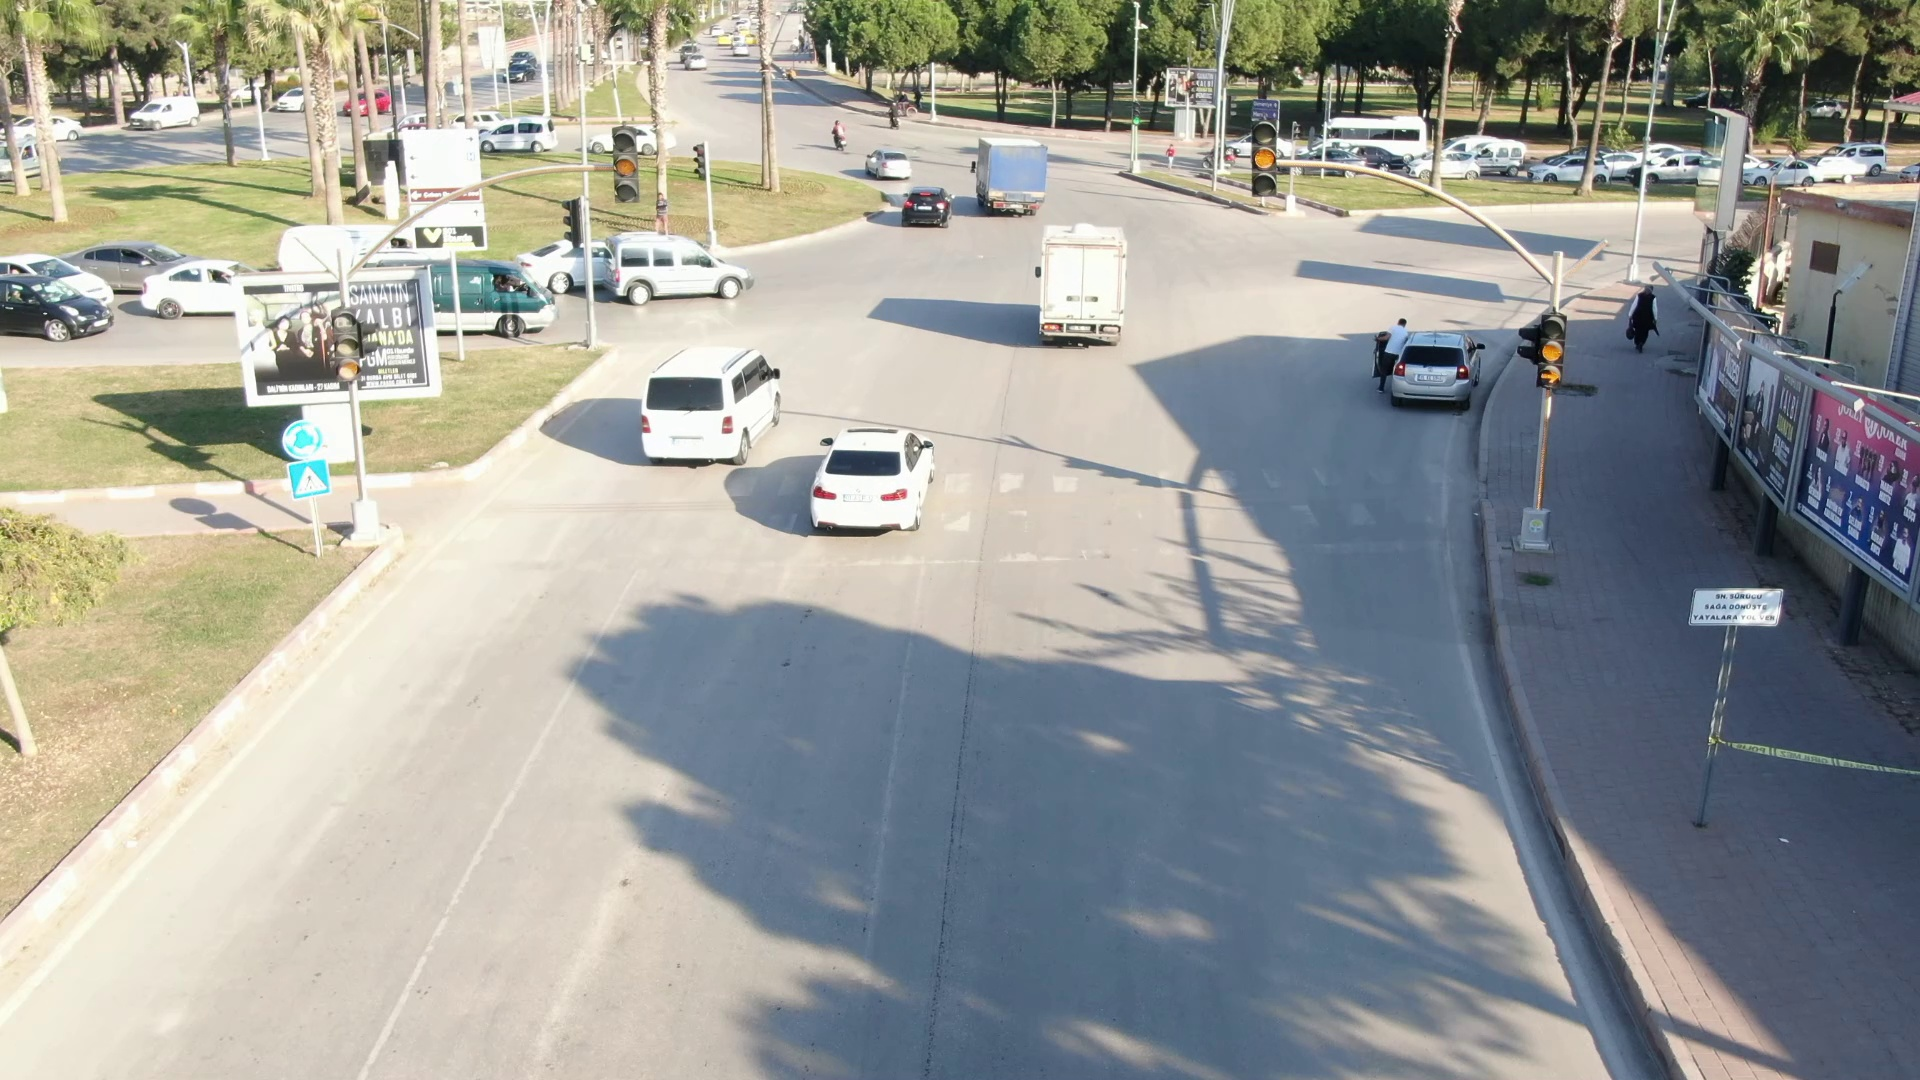car: (631, 313, 780, 483), (800, 411, 957, 561), (1023, 215, 1133, 348), (425, 251, 574, 346), (612, 228, 763, 315), (1394, 321, 1486, 430), (963, 117, 1059, 222), (899, 183, 965, 228), (862, 144, 918, 183)
person: (1613, 276, 1664, 351), (1370, 309, 1403, 400)
